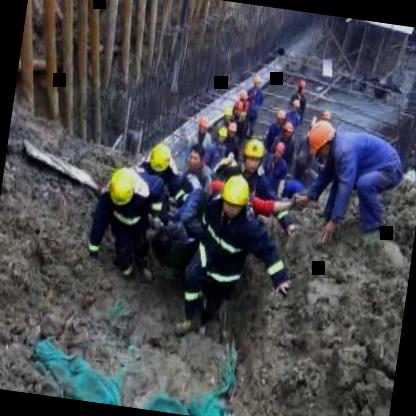head: (181, 142, 210, 172)
helmet: (104, 164, 142, 210), (220, 172, 253, 219), (306, 116, 338, 160), (236, 135, 268, 179), (146, 142, 172, 181), (194, 110, 212, 138), (270, 140, 286, 164), (216, 124, 229, 148), (280, 120, 294, 142)
